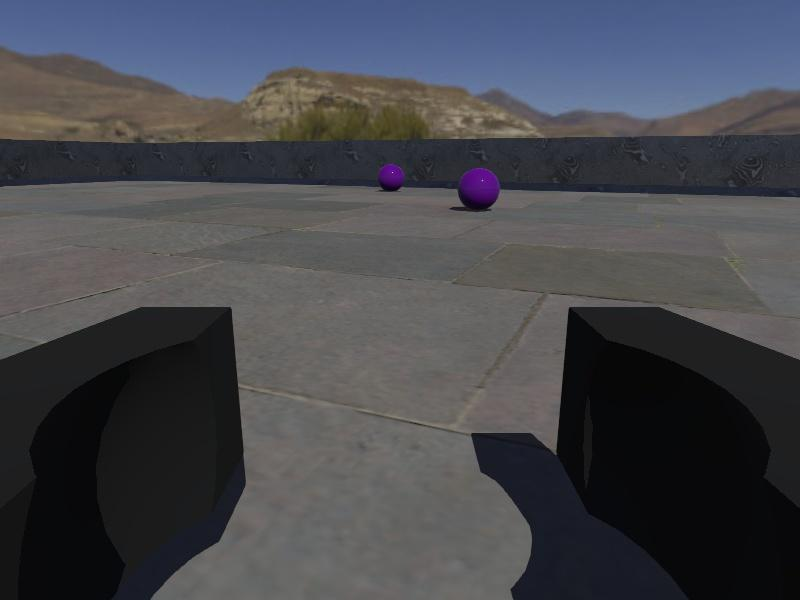violet ball: (457, 166, 501, 211), (378, 162, 405, 189)
